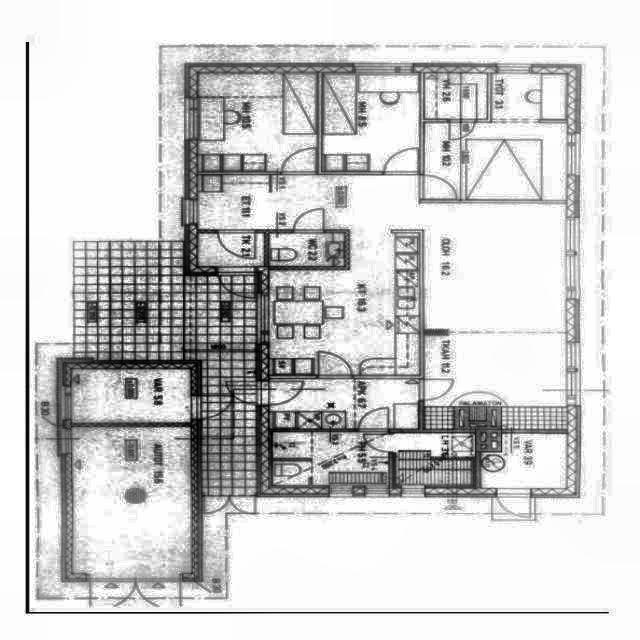room: (72, 427, 192, 573), (198, 72, 318, 172), (423, 122, 567, 201), (322, 72, 421, 172), (269, 379, 419, 429), (424, 73, 568, 120), (72, 369, 191, 423), (481, 433, 567, 488), (394, 433, 475, 484), (269, 233, 344, 266), (197, 234, 264, 268)
